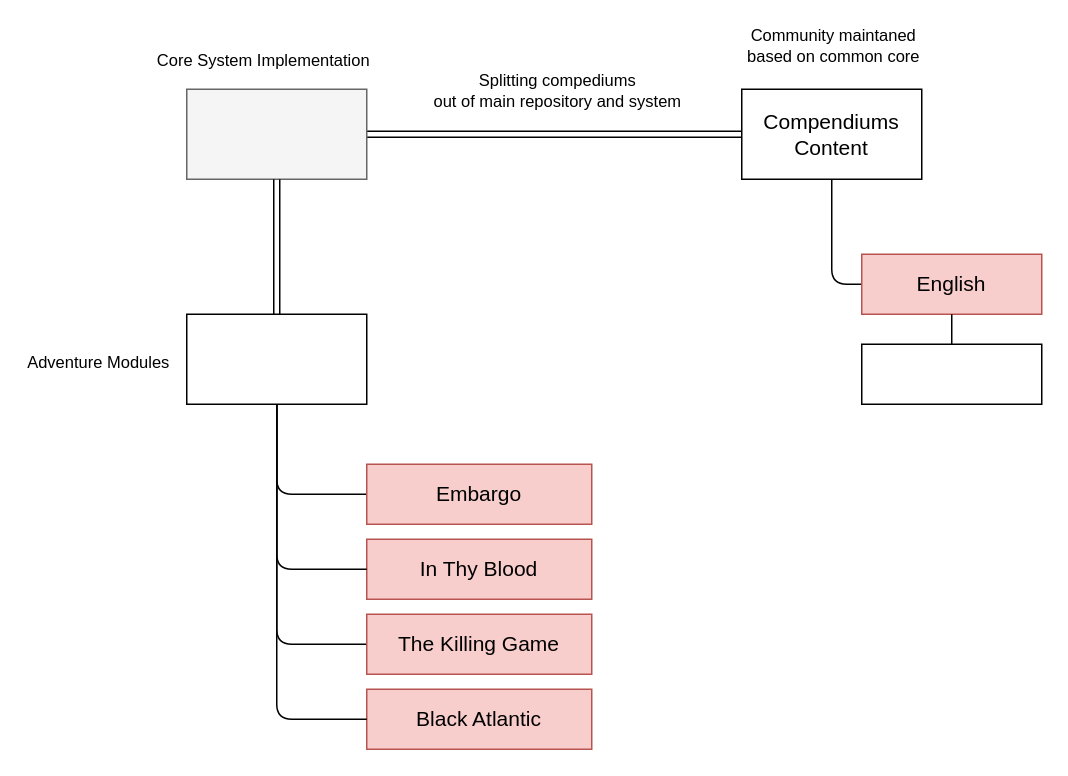
Image size: 1068x776. Some labels were removed from this diagram. Each missing label, with the centre of its shape:
"Adventures Content" goes at [276,358].
"French" goes at [951,373].
"System Core" goes at [276,133].
